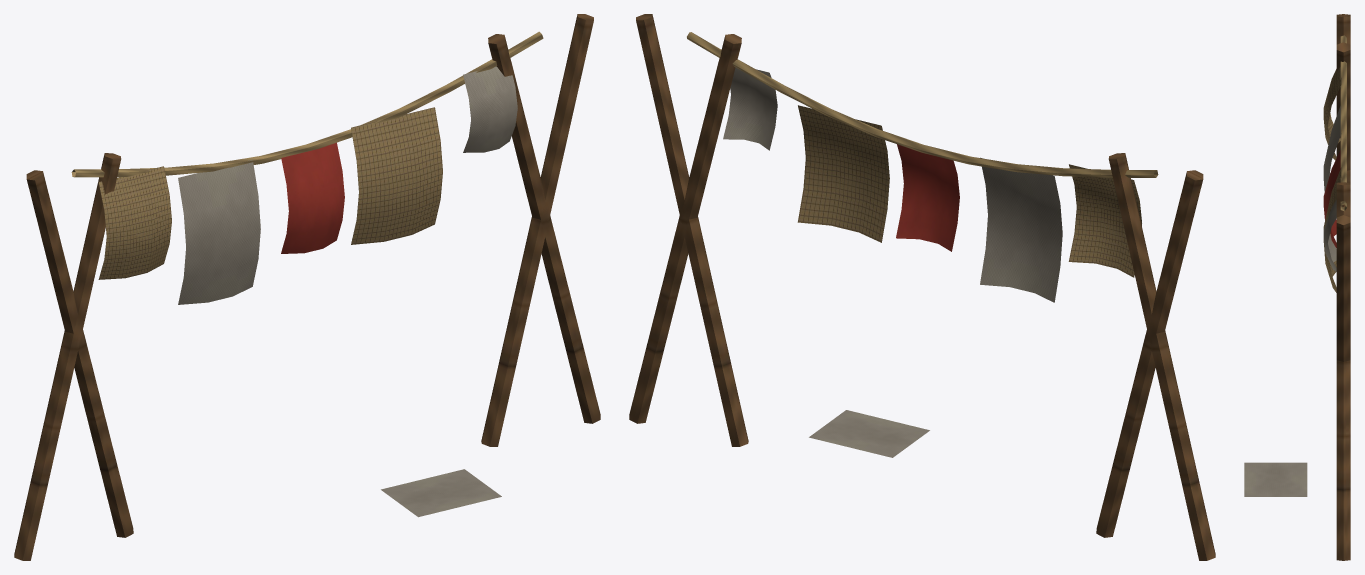
The model's file is prop_voddenlijn_red.glb.
The picture shows the model from 3 angles, left to right: view 1: azimuth 30°, elevation 25°; view 2: azimuth 150°, elevation 25°; view 3: azimuth 270°, elevation 25°; orthographic projection. The views are drawn at different scales.
Visible parts, largest first — view 1: prop_voddenlijn_red; view 2: prop_voddenlijn_red; view 3: prop_voddenlijn_red.
Boxes of the visible parts, <box> form: prop_voddenlijn_red: <box>14,14,600,560</box>; prop_voddenlijn_red: <box>629,14,1215,560</box>; prop_voddenlijn_red: <box>1244,14,1350,560</box>.
Size of the model in its own units: 1.25 by 0.8335 by 0.2356.
Materials: 1 (1 with a texture image).
